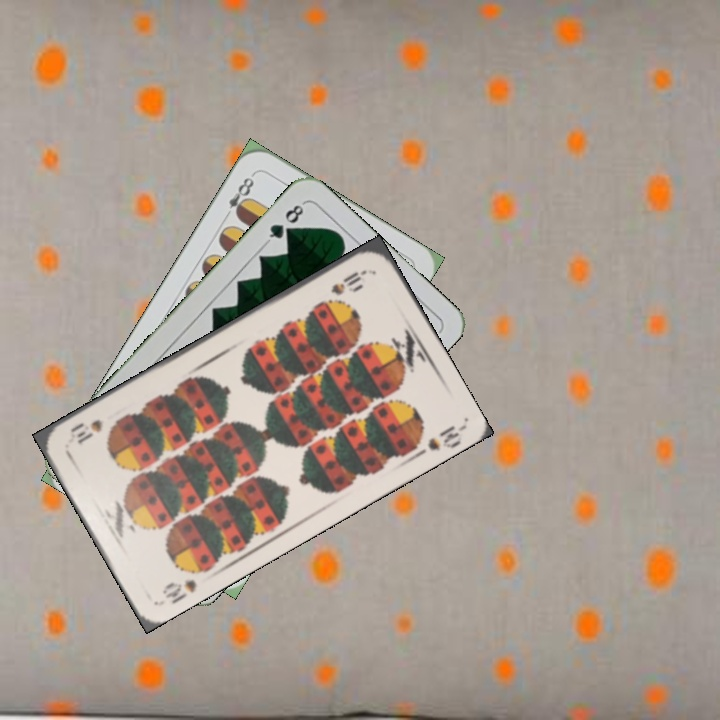E8: (220, 169, 258, 222)
G8: (262, 199, 307, 246)
S10: (327, 265, 370, 298), (158, 575, 200, 607)
